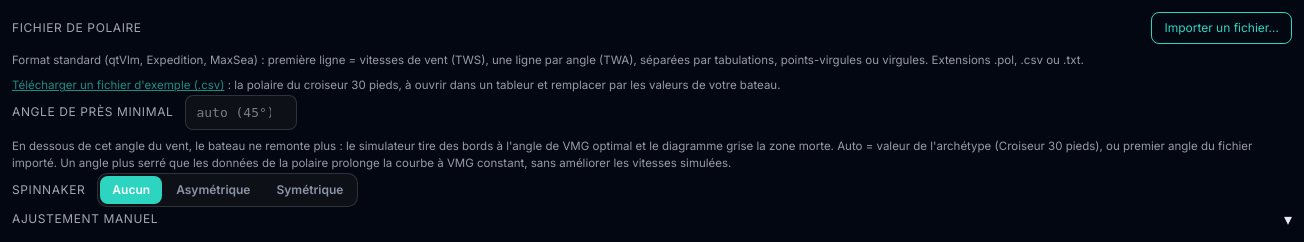
Test: BoatAdvanced, angle de près minimal › n'applique le plancher qu'en quittant le champ
Type "5" into the number field with placeholder "auto (45°)" at [241, 112], box [185,94,297,130]
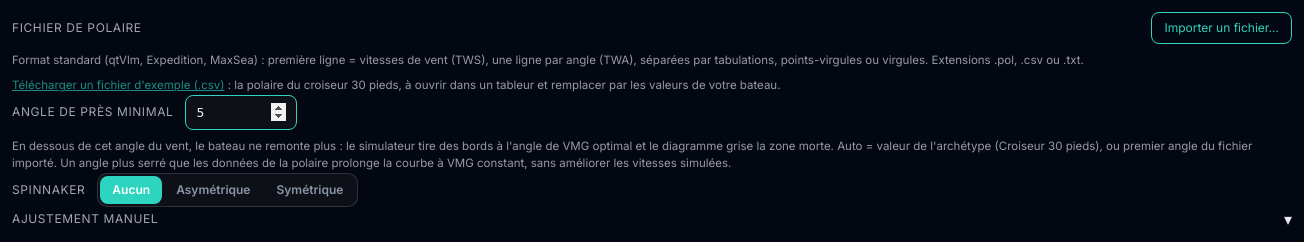
Press Tab
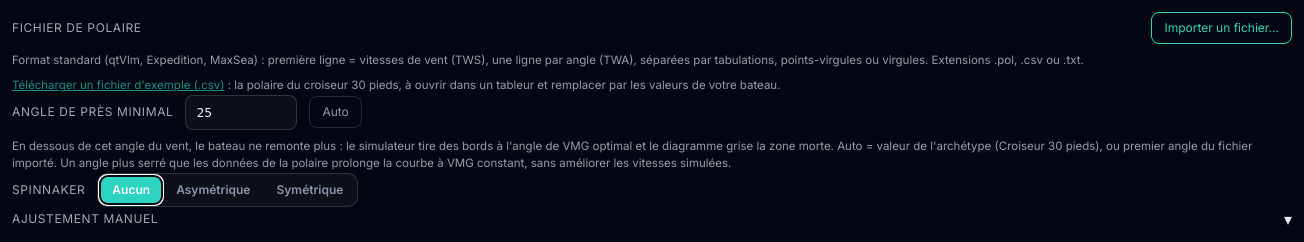
Now the number field with placeholder "auto (45°)" holds "25", box [185,94,297,130]
